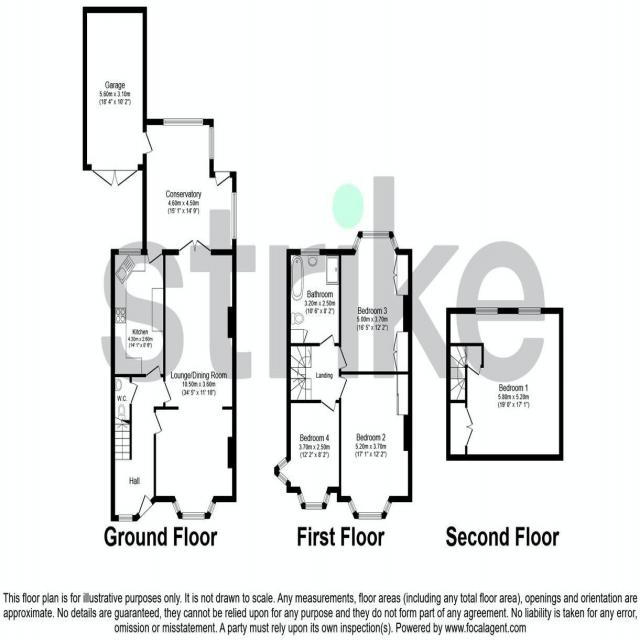DOOR: (147, 248, 163, 265), (338, 376, 348, 399), (153, 412, 163, 435), (319, 333, 335, 347), (338, 347, 348, 369), (145, 364, 161, 377), (163, 381, 172, 404)
DOUBLE DOOR: (177, 236, 212, 256)
ROOM: (153, 238, 237, 519), (446, 308, 563, 460), (337, 371, 413, 519), (339, 231, 412, 375), (274, 400, 341, 510), (110, 249, 166, 377), (320, 399, 336, 413)
WINDOW: (162, 114, 206, 130), (230, 189, 239, 243), (207, 125, 215, 161), (474, 305, 498, 316), (518, 305, 541, 316), (362, 230, 389, 239), (358, 511, 382, 520), (181, 511, 205, 520), (118, 248, 142, 256), (277, 471, 289, 486), (347, 498, 357, 515), (277, 456, 288, 471), (305, 501, 323, 510), (352, 234, 361, 252), (300, 248, 320, 256), (383, 499, 392, 515), (390, 235, 399, 251), (172, 499, 181, 515), (207, 500, 216, 515), (297, 492, 305, 506), (323, 492, 331, 506)
